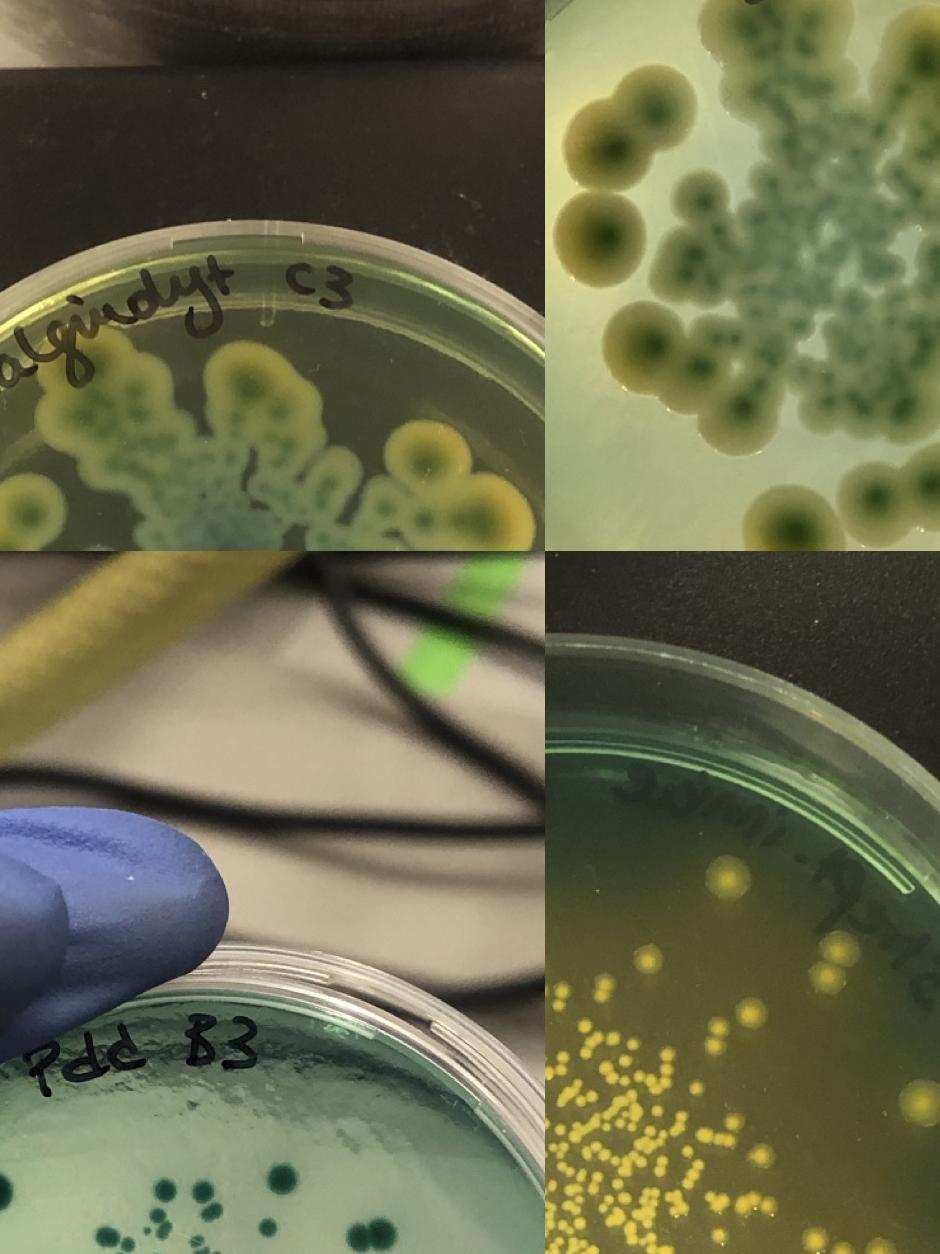pddamselae: (191, 1178, 224, 1224), (265, 1160, 301, 1196), (364, 1216, 398, 1252), (150, 1206, 174, 1242), (154, 1177, 177, 1203), (96, 1226, 120, 1248), (0, 1170, 13, 1210), (259, 1218, 277, 1238), (190, 1245, 226, 1254), (120, 1238, 136, 1252), (191, 1234, 203, 1248), (141, 1224, 153, 1236)
sinniae: (809, 932, 859, 996), (598, 1048, 674, 1090), (702, 852, 756, 905), (896, 1077, 940, 1128), (734, 997, 768, 1032), (580, 1139, 621, 1168), (545, 1140, 576, 1178), (630, 942, 664, 976), (735, 1193, 780, 1217), (704, 1018, 728, 1056), (596, 1192, 632, 1214), (800, 1226, 828, 1254), (579, 1032, 606, 1060), (545, 1050, 570, 1079), (600, 1117, 640, 1135), (669, 1188, 691, 1220), (644, 1124, 670, 1150), (723, 1113, 742, 1148), (552, 981, 572, 1014), (862, 1236, 897, 1254), (704, 1190, 730, 1213), (750, 1144, 774, 1168), (586, 1170, 606, 1196), (685, 1158, 705, 1182), (573, 1089, 598, 1108), (545, 1174, 559, 1206), (545, 1117, 567, 1136), (653, 1154, 670, 1178), (710, 1226, 730, 1246), (687, 1078, 707, 1098), (596, 972, 616, 992), (828, 1241, 856, 1254), (568, 1120, 584, 1142), (644, 1232, 658, 1254), (573, 1215, 587, 1230), (553, 1234, 567, 1248), (573, 1192, 587, 1206), (648, 1185, 662, 1199), (610, 1178, 624, 1192), (674, 1110, 688, 1124), (650, 1106, 664, 1120), (625, 1088, 639, 1102), (571, 1078, 585, 1092), (618, 1054, 632, 1068), (626, 1038, 640, 1052), (578, 1018, 592, 1032), (632, 1205, 644, 1220), (556, 1217, 568, 1231), (636, 1156, 648, 1170), (682, 1146, 694, 1160), (608, 1032, 620, 1046), (585, 1244, 599, 1254)
valgino: (550, 66, 700, 290), (736, 440, 940, 551), (604, 303, 684, 391), (696, 382, 778, 458), (386, 420, 472, 492), (880, 6, 940, 101), (0, 468, 65, 551), (672, 170, 730, 228)
